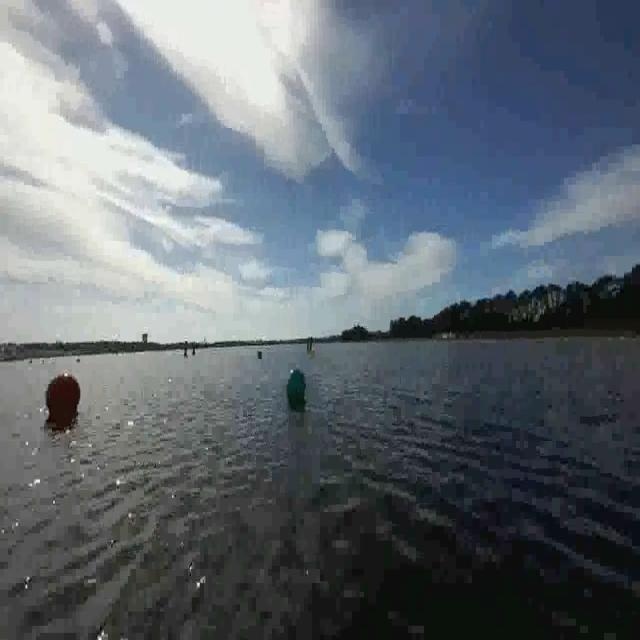green-buoy: (285, 368, 309, 411)
red-buoy: (47, 372, 81, 417)
